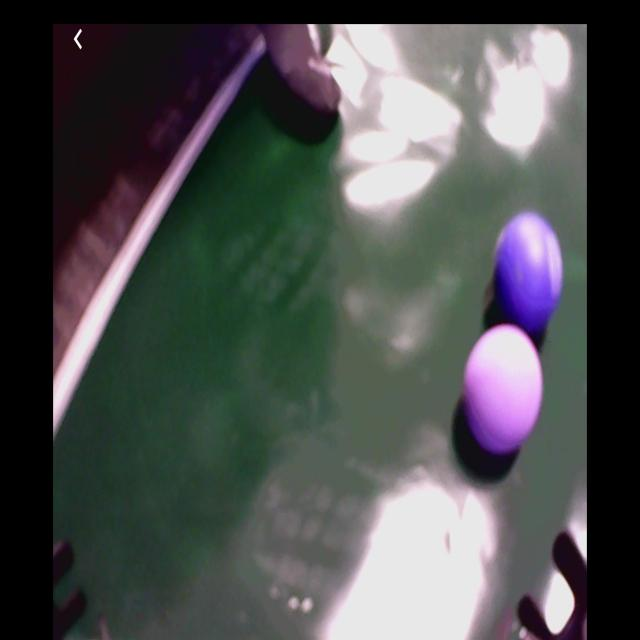ball: (466, 325, 542, 457), (495, 214, 565, 330)
